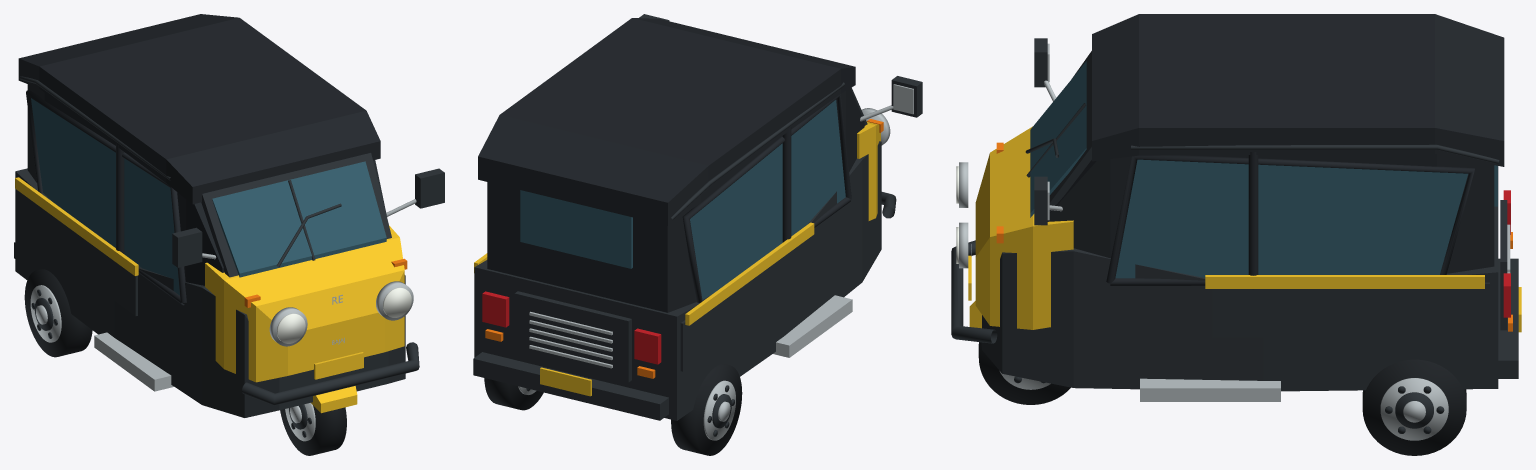
Rendered from bajaj_re_exterior.glb.
The picture shows the model from 3 angles, left to right: view 1: azimuth 30°, elevation 25°; view 2: azimuth 150°, elevation 25°; view 3: azimuth 270°, elevation 25°; orthographic projection. The views are drawn at different scales.
Parts seen in each view (by area): view 1: Crowned canopy, Yellow rounded front apron, Solid lower coachwork, Opaque windshield, Closed side aperture, Passenger lower side panel, Windshield rubber surround, Solid cabin volume, Road tire.001, Front bumper, Side frame, Entry step (+14 smaller); view 2: Crowned canopy, Solid lower coachwork, Solid cabin volume, Closed side aperture, Rear engine cover, Rear glazing, Passenger lower side panel, Rear bumper, Road tire.001, Side frame, Side yellow belt, Entry step (+10 smaller); view 3: Crowned canopy, Solid lower coachwork, Closed side aperture.001, Passenger lower side panel.001, Yellow rounded front apron, Solid cabin volume, Road tire.002, Side frame.001, Opaque windshield, Side yellow belt.001, Entry step.001, Steel wheel rim.005 (+10 smaller).
Part boxes in pixels (x1,y1,x2,y2): Crowned canopy: (18,14,380,204); Yellow rounded front apron: (205,225,404,382); Solid lower coachwork: (15,168,405,417); Opaque windshield: (212,161,386,277); Closed side aperture: (31,98,179,295); Passenger lower side panel: (16,190,137,316); Windshield rubber surround: (201,153,391,277); Solid cabin volume: (27,84,386,285); Road tire.001: (24,269,92,357); Front bumper: (242,342,419,405); Side frame: (26,90,186,305); Entry step: (94,332,173,391); Crowned canopy: (478,18,855,225); Solid lower coachwork: (474,141,881,420); Solid cabin volume: (487,88,864,312); Closed side aperture: (690,100,845,299); Rear engine cover: (514,291,631,382); Rear glazing: (520,190,632,268); Passenger lower side panel: (680,240,807,371); Rear bumper: (473,352,668,420); Road tire.001: (671,364,742,455); Side frame: (682,94,851,302); Side yellow belt: (685,222,814,325); Entry step: (773,295,852,357); Crowned canopy: (1092,14,1504,166); Solid lower coachwork: (982,166,1498,391); Closed side aperture.001: (1115,159,1467,278); Passenger lower side panel.001: (1212,282,1489,337); Yellow rounded front apron: (975,126,1073,329); Solid cabin volume: (1047,153,1494,273); Road tire.002: (1362,359,1466,455); Side frame.001: (1106,155,1474,286); Opaque windshield: (1030,61,1086,217); Side yellow belt.001: (1205,275,1484,288); Entry step.001: (1140,378,1280,401); Steel wheel rim.005: (1380,378,1448,440).
Size of the model in its own units: 1.76 by 1.77 by 2.79.
